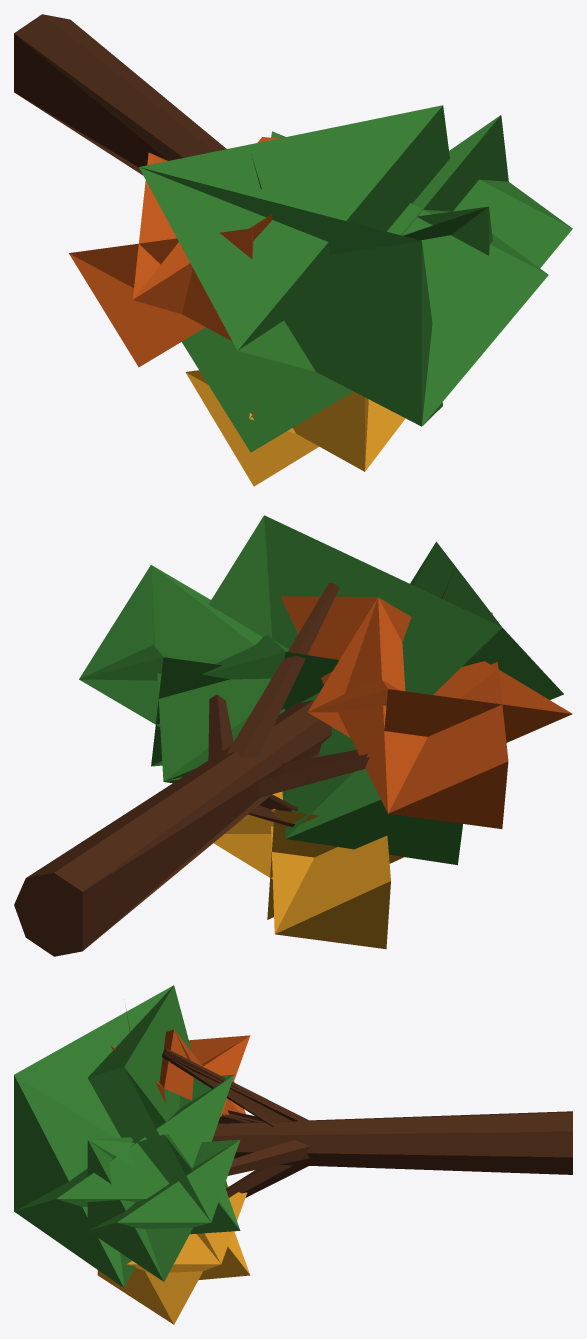
File: apple_tree_lowpoly.obj
3 renders of one model, top to bottom at view 1: azimuth 30°, elevation 25°; view 2: azimuth 150°, elevation 25°; view 3: azimuth 270°, elevation 25°, orthographic. The views are drawn at different scales.
Parts seen in each view (by area): view 1: AppleTree; view 2: AppleTree; view 3: AppleTree.
Boxes of the visible parts, box(x1,y1,x2,y2) form: AppleTree: box(14, 14, 572, 486); AppleTree: box(14, 515, 572, 956); AppleTree: box(14, 985, 572, 1324).
Size of the model in its own units: 1.85 by 1.5 by 2.8.
